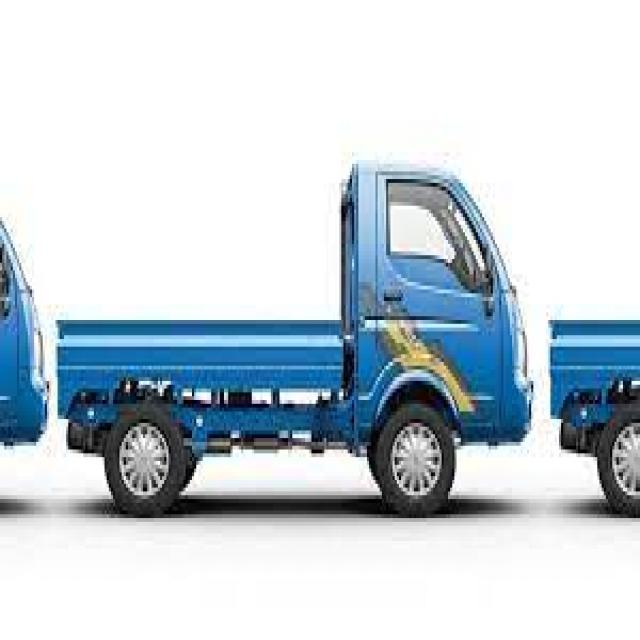Tempo: (50, 139, 531, 528)
